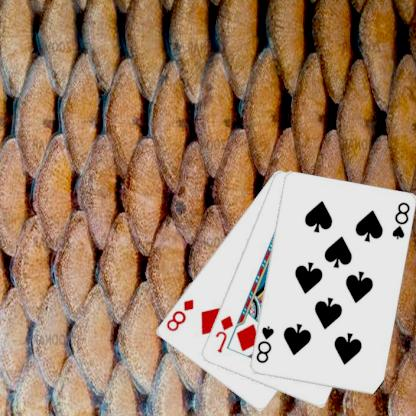8D: (165, 296, 197, 333)
8S: (254, 323, 276, 365), (390, 200, 412, 241)
JD: (214, 312, 236, 354)
